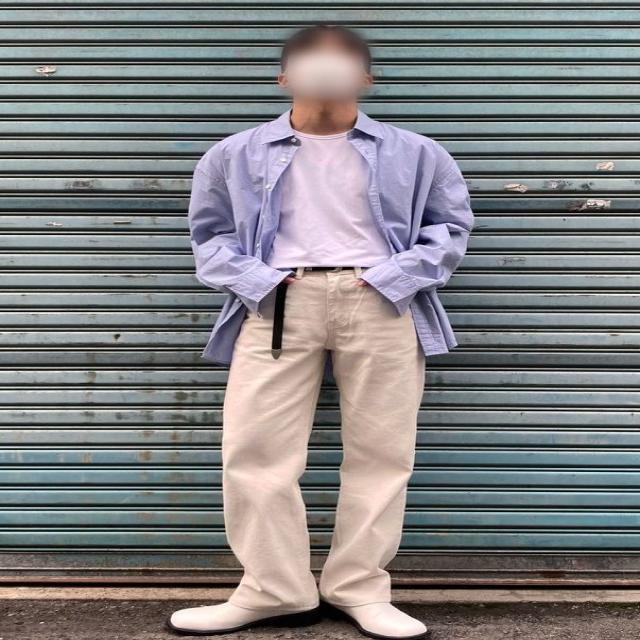cottonpants: (217, 262, 429, 611)
shirt: (188, 109, 476, 367)
